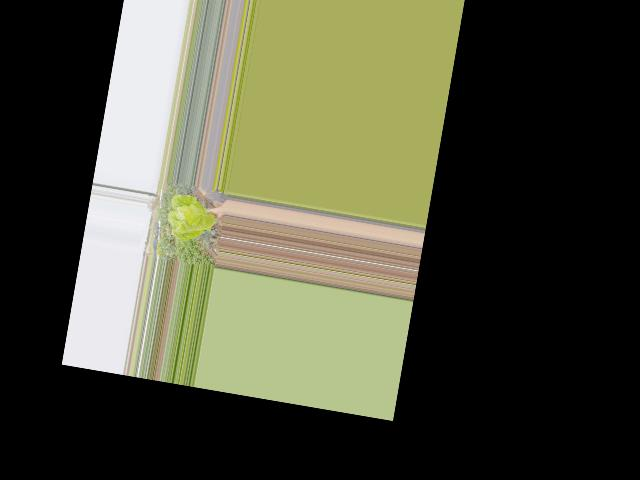lettuce: (163, 190, 223, 247)
